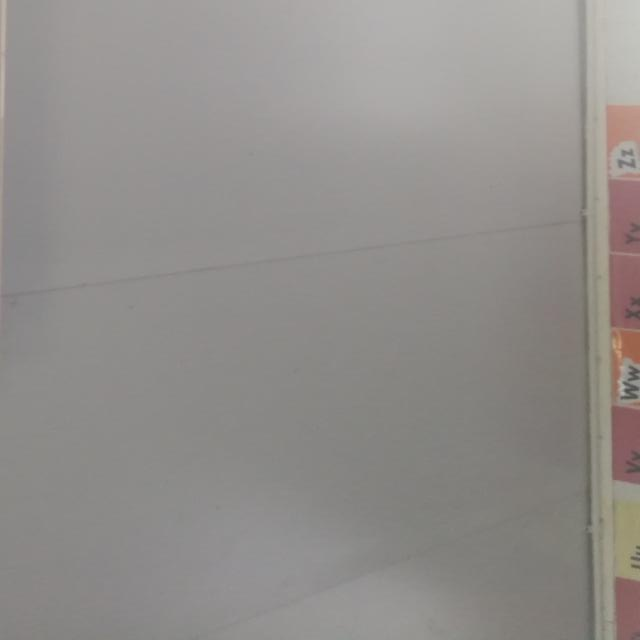fluorescent tube: (0, 0, 89, 403)
